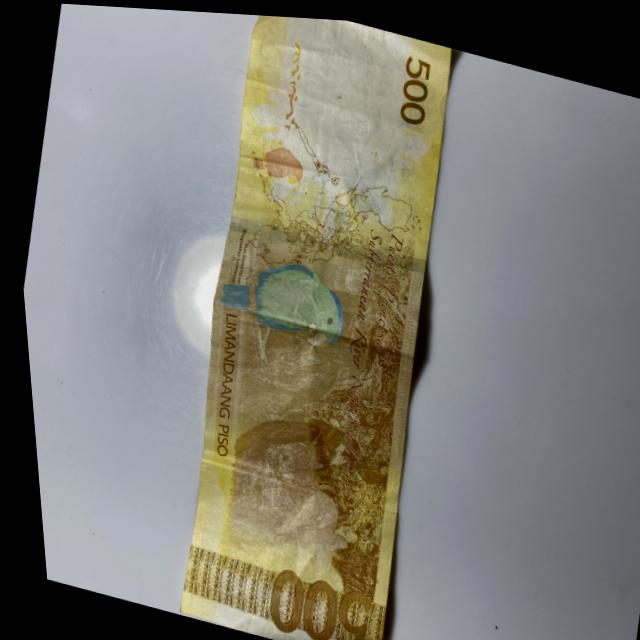500_big_parrot: (206, 238, 353, 351)
500_parrot_watermark: (242, 129, 308, 194)
value_watermark: (318, 32, 356, 66)
